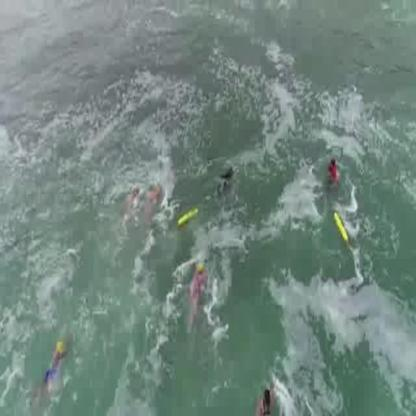Boat: (177, 203, 199, 232), (332, 210, 349, 242)
